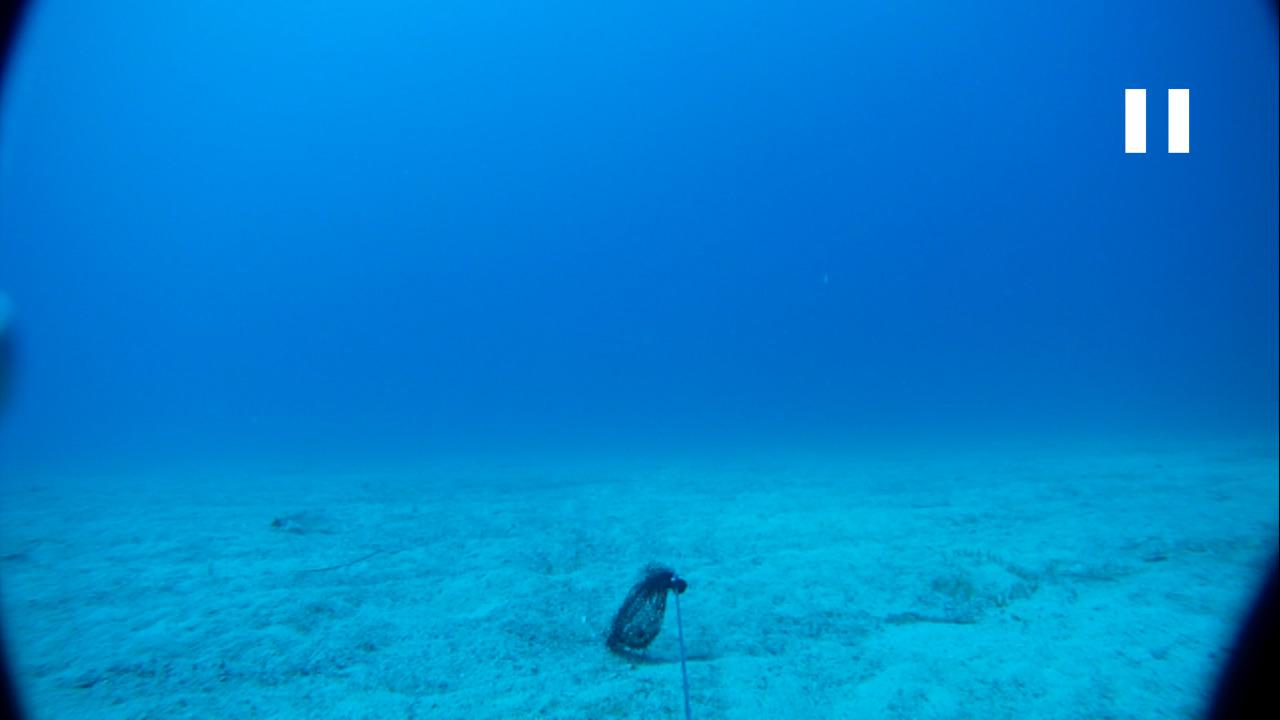dactylopterus: (264, 499, 333, 539)
